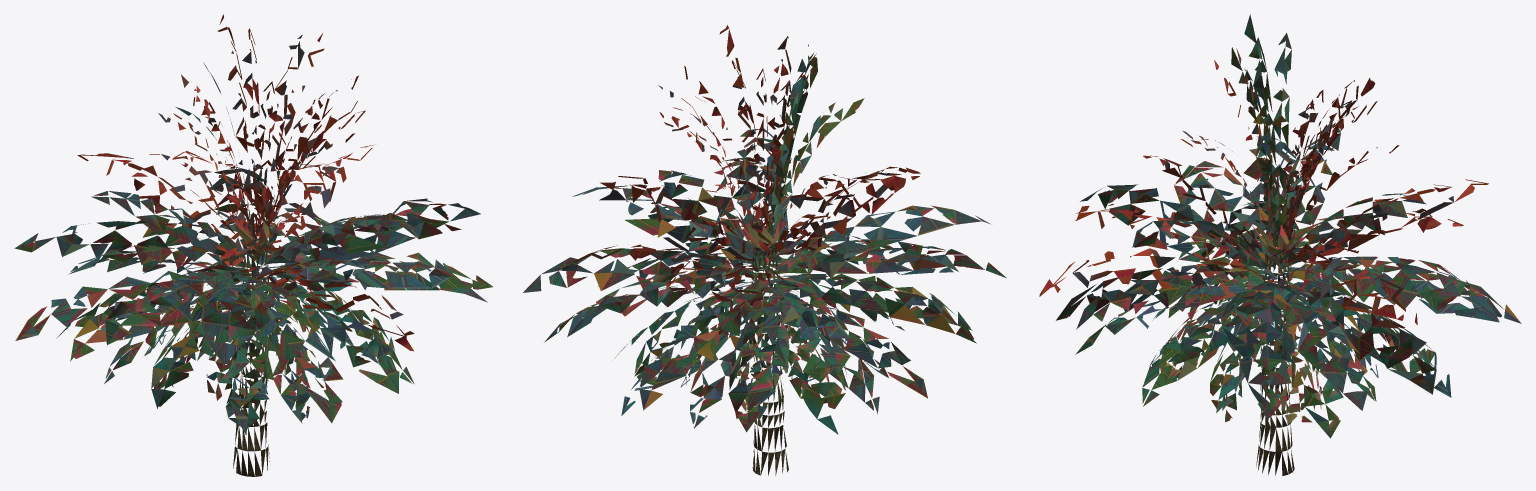
File: Plant - Alien Plant 14-Cwg7CKSO.glb
3 views of the same model, side by side, from view 1: azimuth 30°, elevation 25°; view 2: azimuth 150°, elevation 25°; view 3: azimuth 270°, elevation 25° (orthographic).
Parts seen in each view (by area): view 1: Plant14(Clone); view 2: Plant14(Clone); view 3: Plant14(Clone).
Boxes of the visible parts, <box> form: Plant14(Clone): <box>14,14,492,476</box>; Plant14(Clone): <box>523,25,1006,475</box>; Plant14(Clone): <box>1039,14,1521,475</box>.
Size of the model in its own units: 3.23 by 3.28 by 3.28.
Materials: 2 (2 with a texture image).
